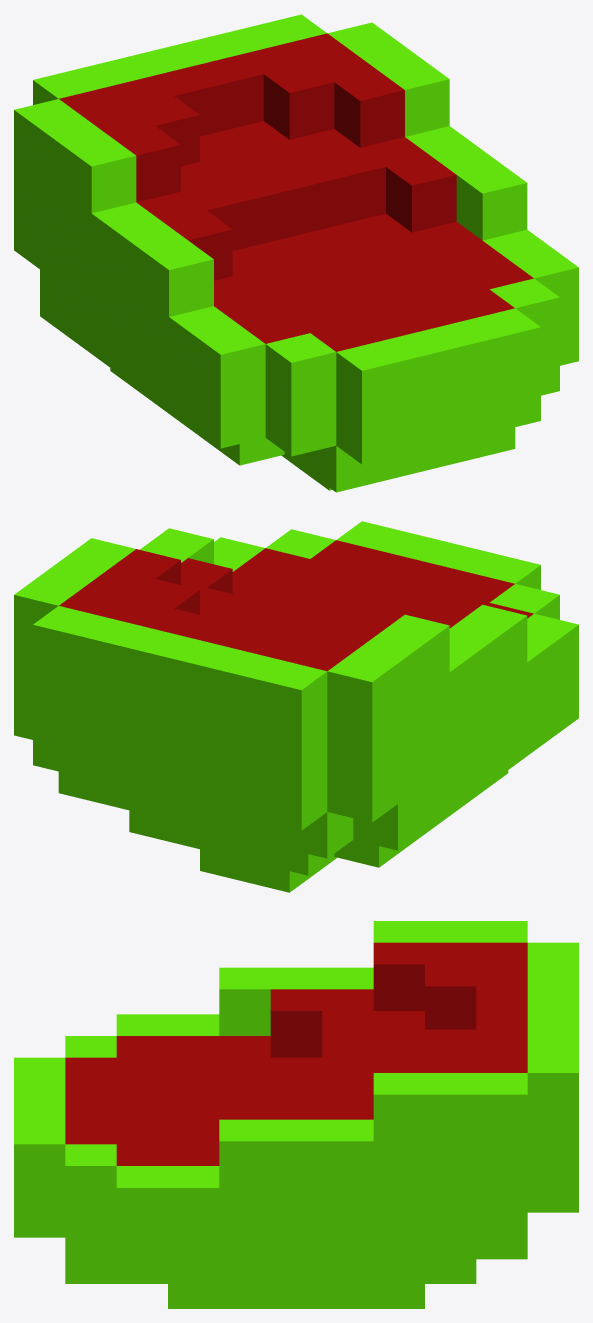
The model's file is head-0-jaw.obj.
The picture shows the model from 3 angles, top to bottom: view 1: azimuth 30°, elevation 25°; view 2: azimuth 150°, elevation 25°; view 3: azimuth 270°, elevation 25°; orthographic projection.
Visible parts, largest first — view 1: jaw; view 2: jaw; view 3: jaw.
Part boxes in pixels (x1,y1,x2,y2): jaw: (14,14,578,492); jaw: (14,521,578,892); jaw: (14,921,578,1308).
Bounding box in the file's own units: 0.8 × 0.6 × 1.1.
1 material, 1 textured.
